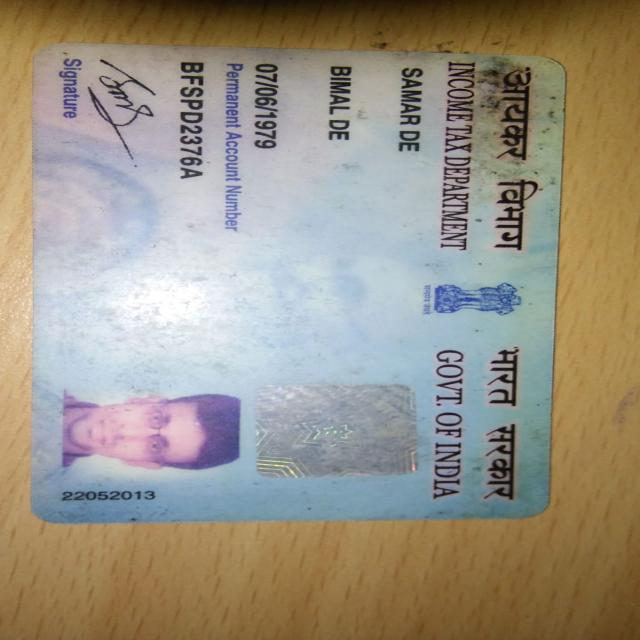pan_card: (33, 45, 564, 519)
